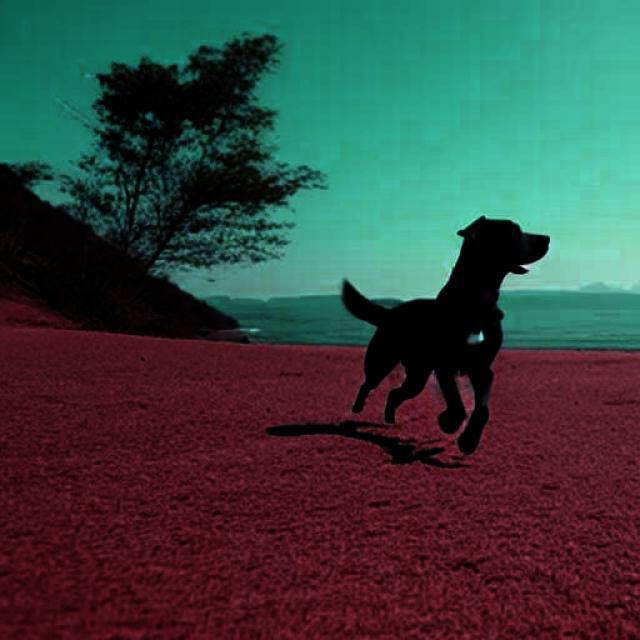Dog: (342, 215, 550, 455)
